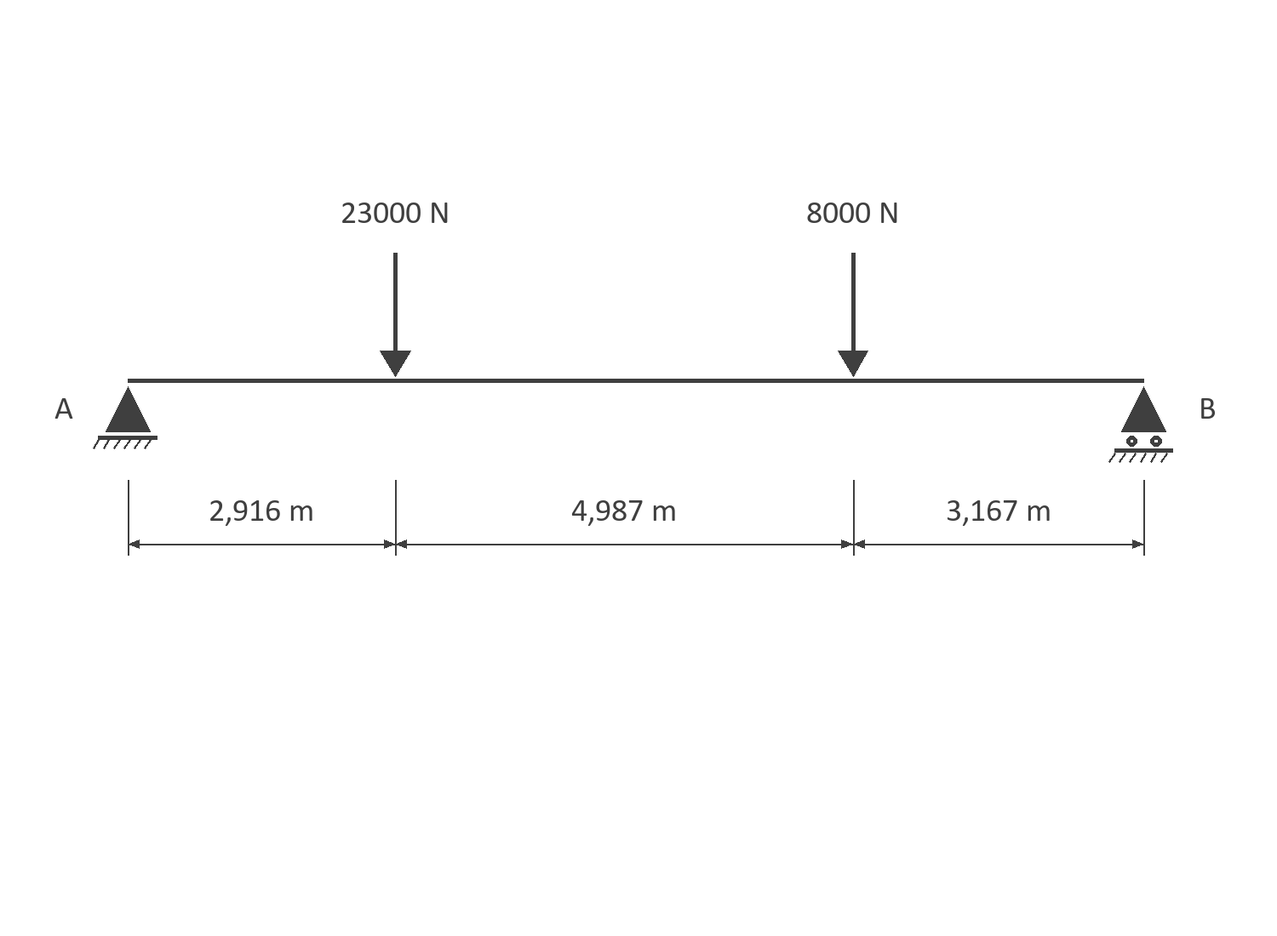pin_support: (93, 386, 157, 449)
point_load: (380, 253, 411, 377), (838, 253, 868, 377)
roller_support: (1108, 386, 1173, 463)
